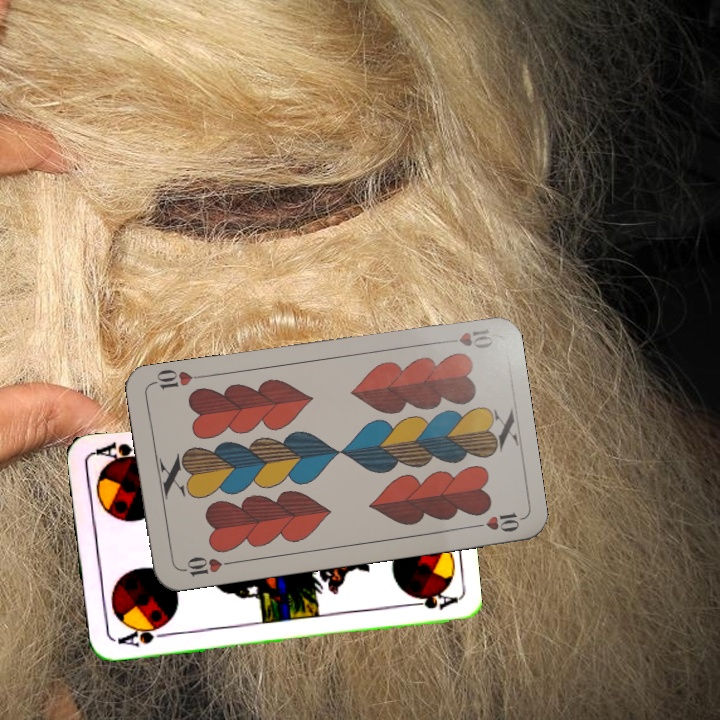H10: (176, 552, 235, 580), (436, 324, 495, 351)
SA: (108, 621, 168, 650)
